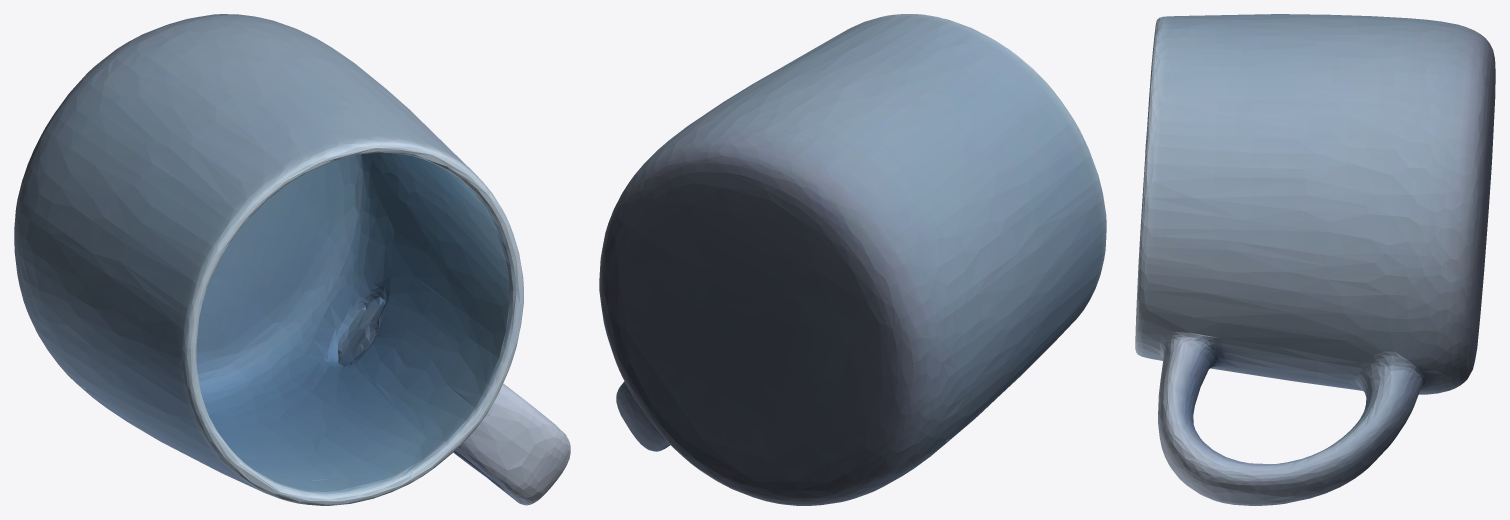
The model's file is mug1.glb.
3 views of the same model, side by side, from view 1: azimuth 30°, elevation 25°; view 2: azimuth 150°, elevation 25°; view 3: azimuth 270°, elevation 25° (orthographic). The views are drawn at different scales.
Parts seen in each view (by area): view 1: geometry_0; view 2: geometry_0; view 3: geometry_0.
Part boxes in pixels (left/top/right/bottom): geometry_0: left=14, top=14, right=570, bottom=505; geometry_0: left=599, top=14, right=1106, bottom=505; geometry_0: left=1135, top=14, right=1495, bottom=505.
Bounding box in the file's own units: 0.0875 × 0.0874 × 0.0738.
1 material, 1 textured.
